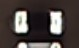COMP: (9, 6, 68, 38)
GAP: (15, 20, 62, 48)
